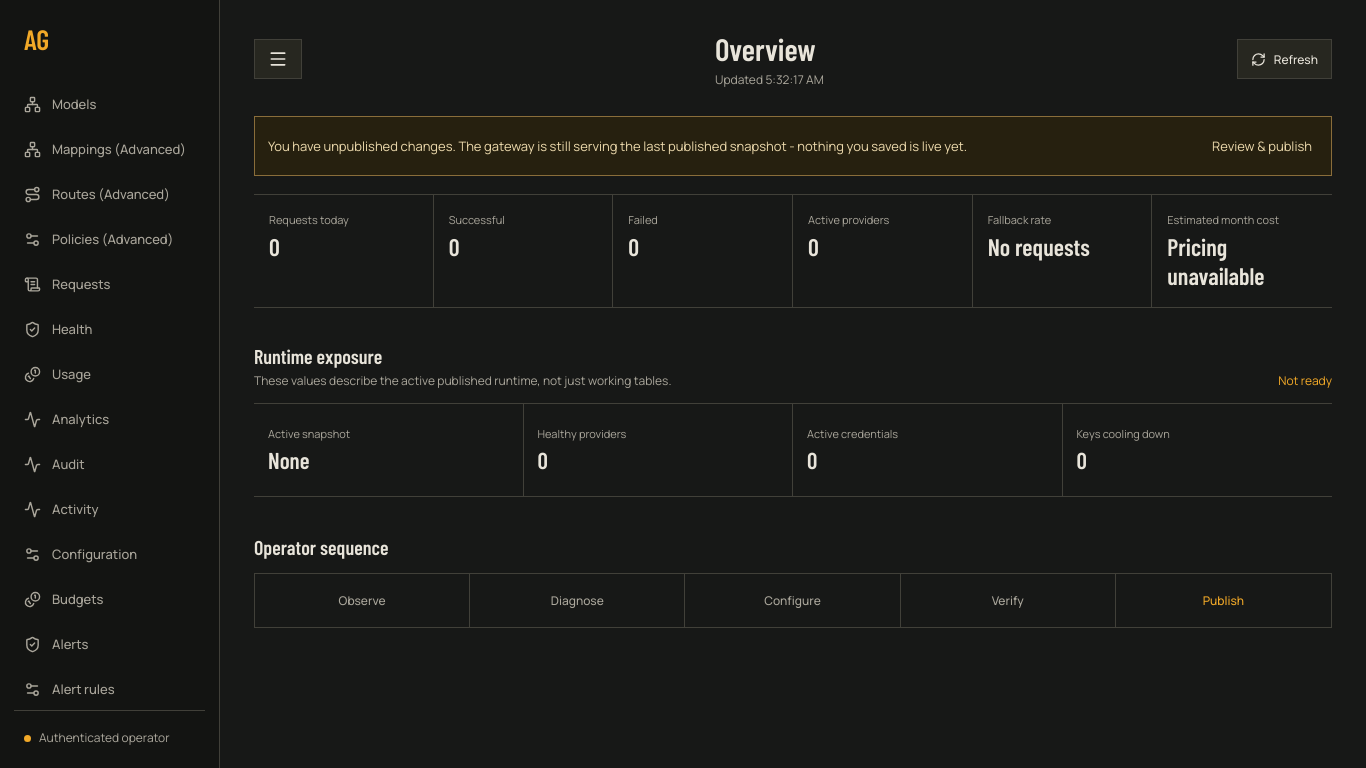
Test: draft versus published state › does not claim an empty draft is reviewable
(page scrolled)
Click the button "Configuration".
click(110, 554)  # box [14,533,205,575]
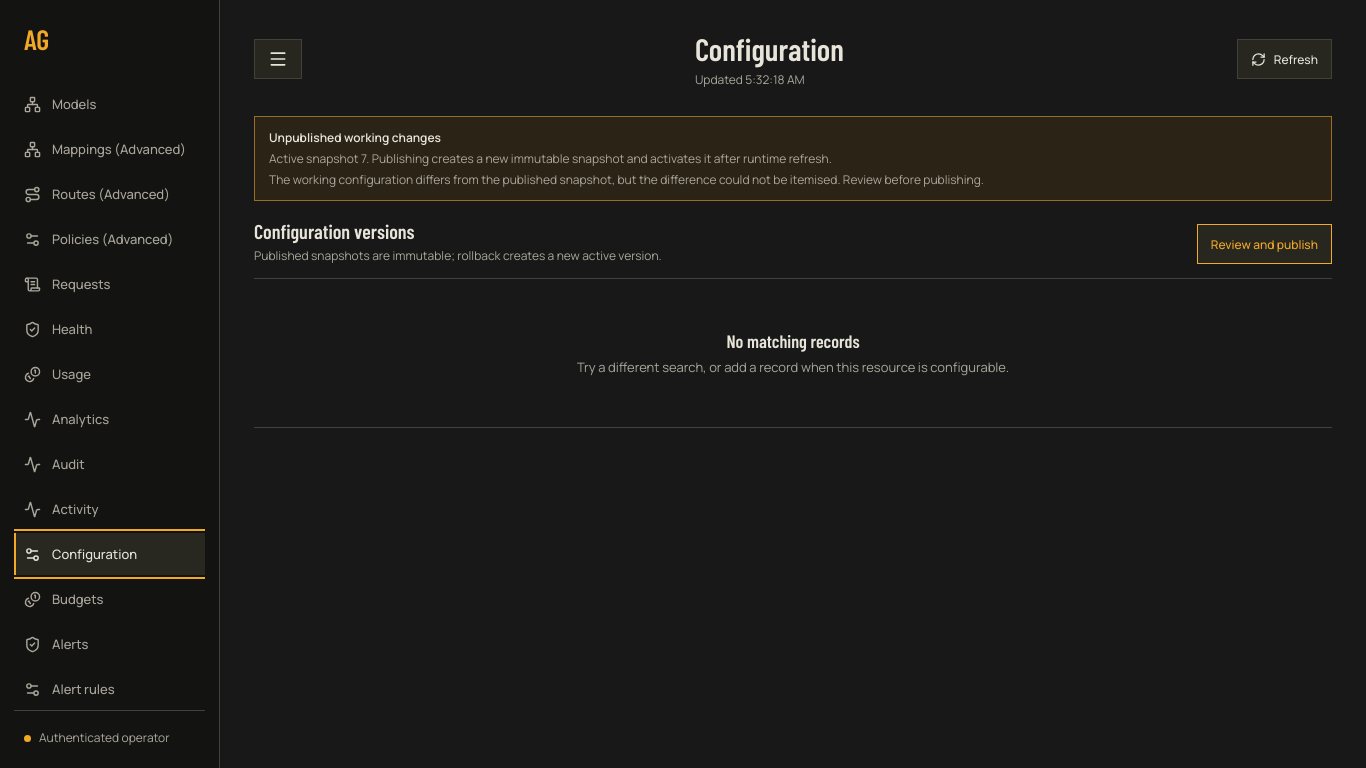
Expected: the text "could not be itemised" is shown, [269,171,984,188]
